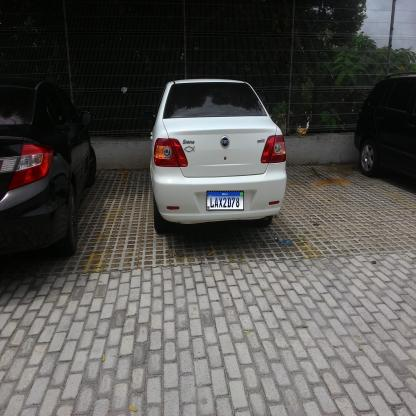PlacaM: (206, 190, 244, 210)
